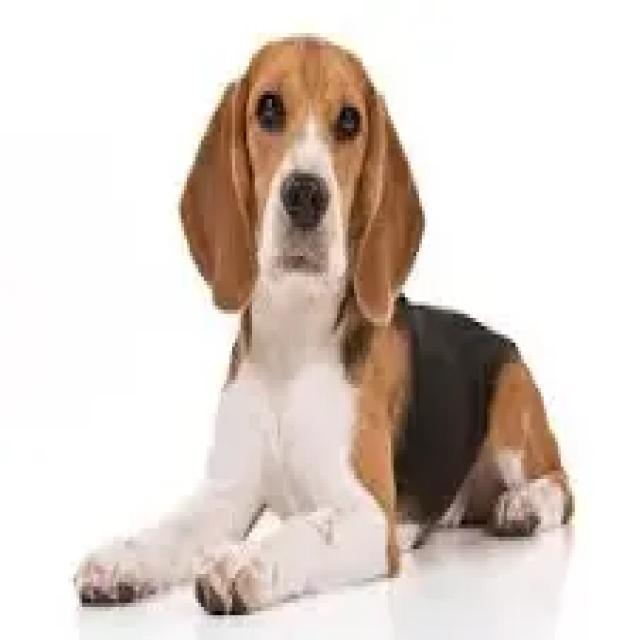dog: (75, 38, 574, 612)
